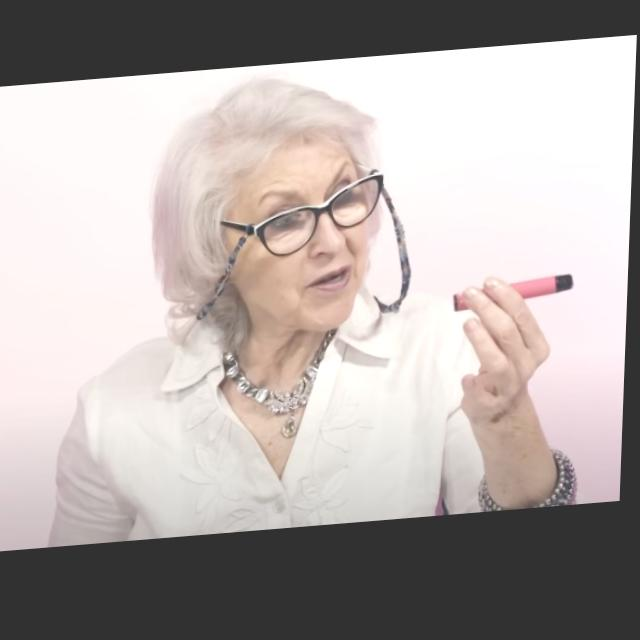vape: (455, 283, 578, 321)
